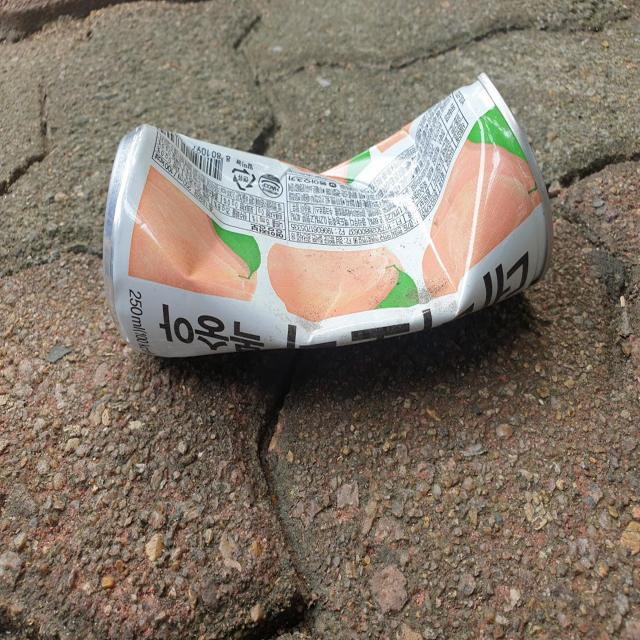can: (103, 72, 554, 357)
